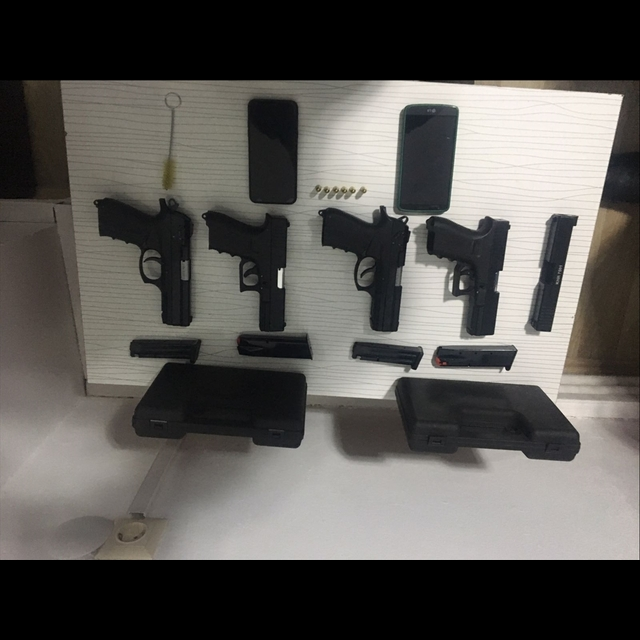SILAH: (91, 197, 195, 329), (316, 203, 411, 334), (202, 206, 291, 333), (424, 216, 513, 337)
